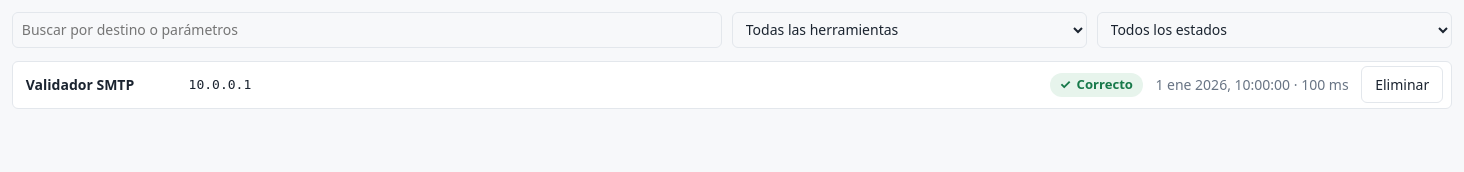
filtro por texto › avisa de que el filtro no encontró, en vez de salir con la lista a medias
Type "no-existe" into the search field named "Buscar en el historial" at x=367, y=30, box top-left (12, 12), bottom-right (722, 48)
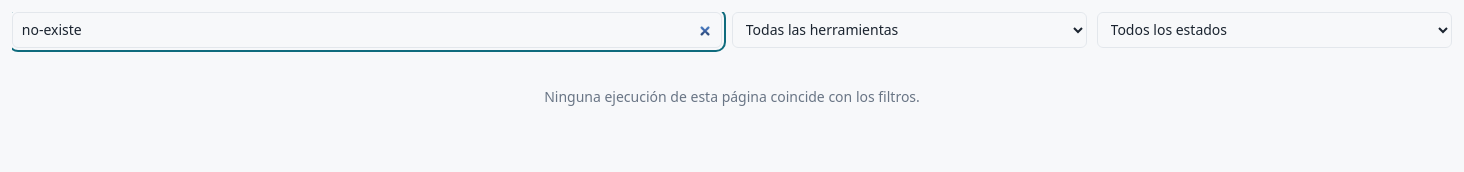
Check: the list is gone
Check: the text "Ninguna ejecución de esta página coincide con los filtros." is shown, box top-left (544, 87), bottom-right (920, 106)
